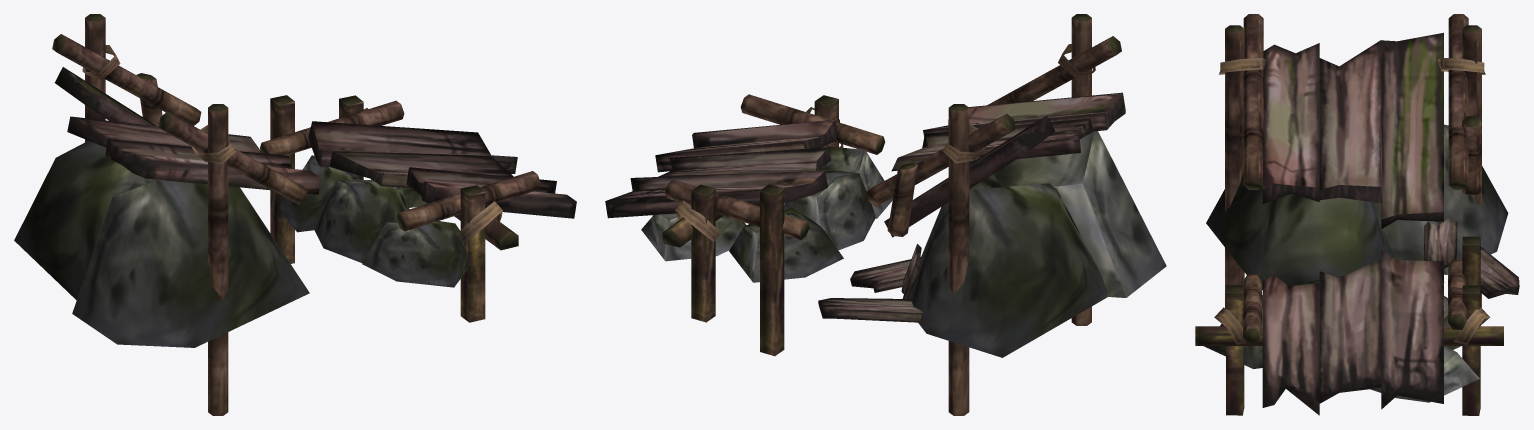
File: STR_StairWoodD.FBX
The picture shows the model from 3 angles, left to right: view 1: azimuth 30°, elevation 25°; view 2: azimuth 150°, elevation 25°; view 3: azimuth 270°, elevation 25°; orthographic projection. The views are drawn at different scales.
Parts seen in each view (by area): view 1: STR_StairWoodD; view 2: STR_StairWoodD; view 3: STR_StairWoodD.
Boxes of the visible parts, x1,y1,x2,y2 form: STR_StairWoodD: (14, 14, 576, 415); STR_StairWoodD: (605, 14, 1166, 415); STR_StairWoodD: (1195, 14, 1519, 415).
Size of the model in its own units: 532 by 324 by 324.
